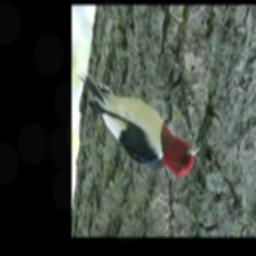Woodpecker: (73, 60, 207, 185)
